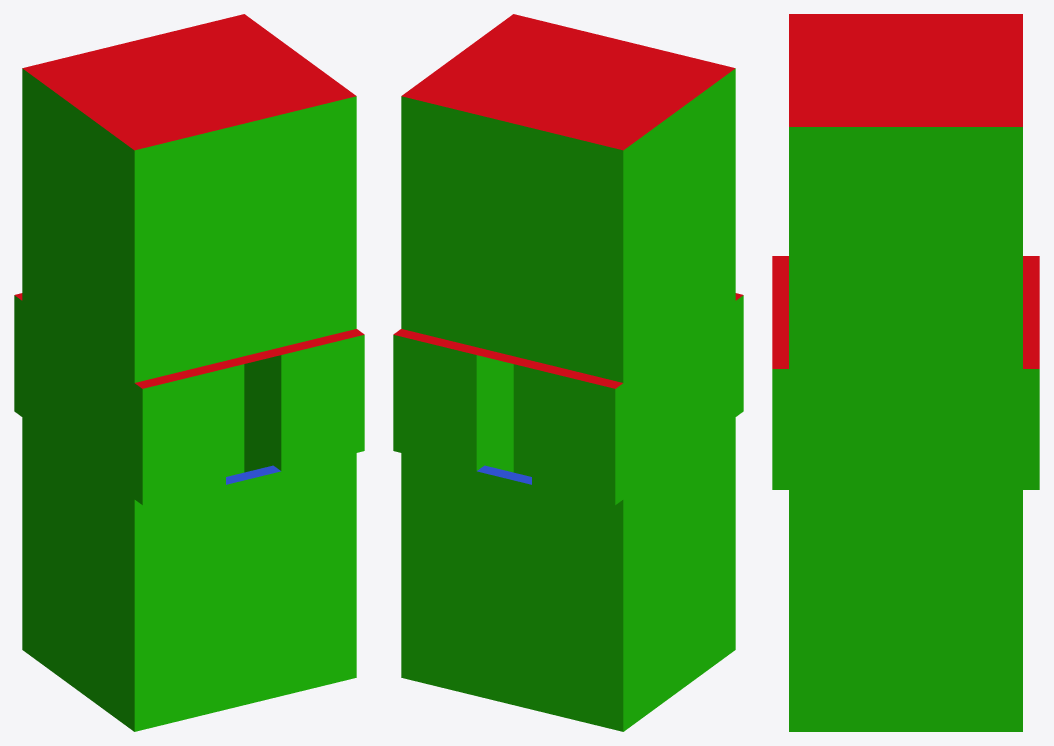
Rendered from 2x2_Room_Deep_and_Tall.fbx.
3 views of the same model, side by side, from view 1: azimuth 30°, elevation 25°; view 2: azimuth 150°, elevation 25°; view 3: azimuth 270°, elevation 25° (orthographic). The views are drawn at different scales.
Parts seen in each view (by area): view 1: 2x2 Room Deep and Tall; view 2: 2x2 Room Deep and Tall; view 3: 2x2 Room Deep and Tall.
Boxes of the visible parts, left/top/right/bottom form: 2x2 Room Deep and Tall: left=14, top=14, right=364, bottom=731; 2x2 Room Deep and Tall: left=393, top=14, right=743, bottom=731; 2x2 Room Deep and Tall: left=772, top=14, right=1039, bottom=731.
Size of the model in its own units: 1600 by 4000 by 1600.
